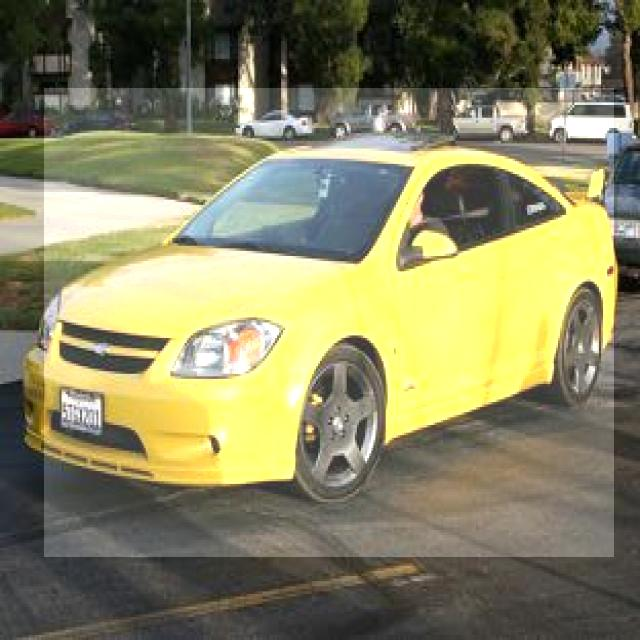Car: (44, 88, 614, 557)
